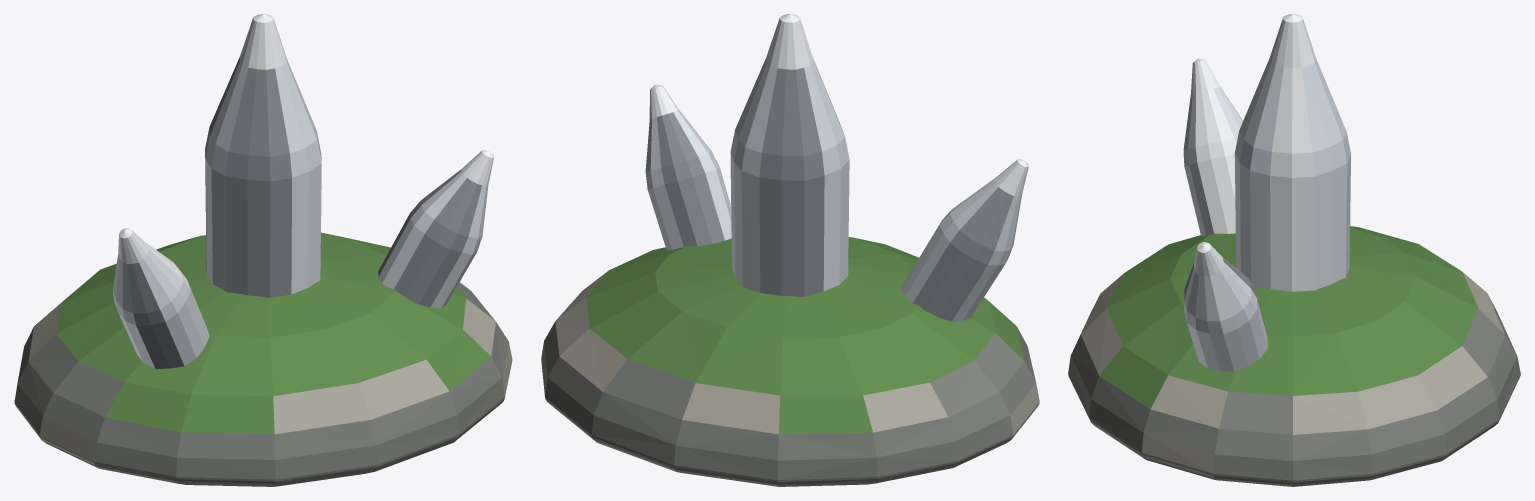
The model's file is OreVein4Far.obj.
3 renders of one model, left to right at view 1: azimuth 30°, elevation 25°; view 2: azimuth 150°, elevation 25°; view 3: azimuth 270°, elevation 25°, orthographic.
Size of the model in its own units: 6.02 by 5.46 by 5.39.
